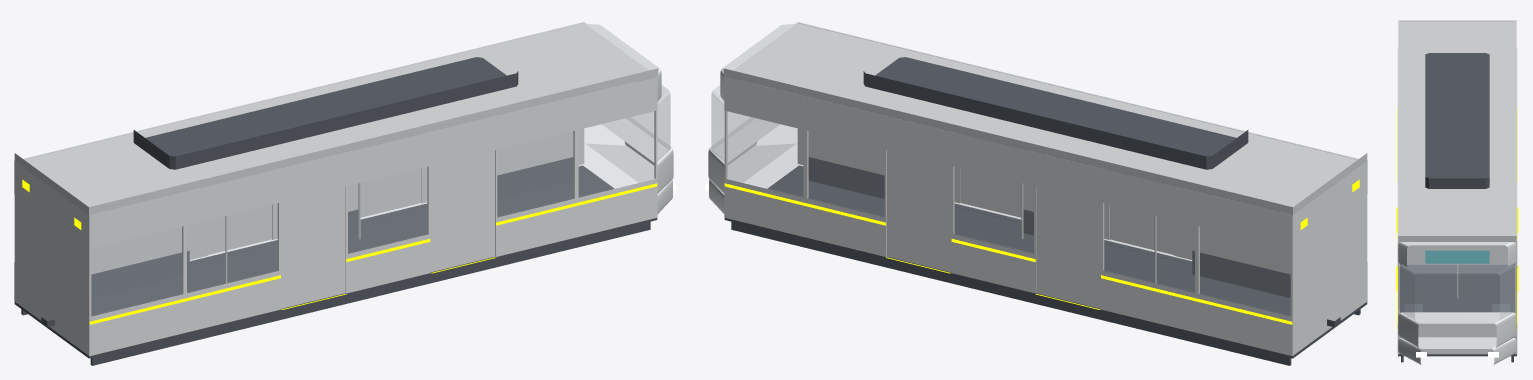
The model's file is ext_maglev_car_body_02.glb.
3 renders of one model, left to right at view 1: azimuth 30°, elevation 25°; view 2: azimuth 150°, elevation 25°; view 3: azimuth 270°, elevation 25°, orthographic. The views are drawn at different scales.
Parts seen in each view (by area): view 1: Roof, Side_Glass, Lower_Wall, Wall, Roof_Pods, Underframe, End_Wall, Door_L_02, Door_L_01, Skirts, Seats, Cab_Nose (+4 smaller); view 2: Roof, Side_Glass, Lower_Wall, Wall, Roof_Pods, Underframe, End_Wall, Door_R_02, Door_R_01, Skirts, Seats, Cab_Nose (+4 smaller); view 3: Roof, Roof_Pods, Cab_Nose, Cab_Glass, Underframe, Wall, Destination_Screen, Livery_Stripe, Seats, Door_Sills, Lower_Wall, Headlights (+1 smaller).
Boxes of the visible parts, box(x1,y1,x2,y2) form: Roof: box(14, 22, 658, 215); Side_Glass: box(91, 111, 654, 315); Lower_Wall: box(14, 128, 657, 356); Wall: box(14, 23, 657, 316); Roof_Pods: box(133, 57, 518, 169); Underframe: box(14, 165, 657, 358); End_Wall: box(16, 162, 87, 354); Door_L_02: box(430, 150, 494, 272); Door_L_01: box(281, 186, 345, 308); Skirts: box(21, 169, 650, 365); Seats: box(91, 157, 573, 297); Cab_Nose: box(585, 23, 673, 213); Roof: box(723, 22, 1367, 215); Side_Glass: box(727, 111, 1290, 315); Lower_Wall: box(724, 128, 1367, 356); Wall: box(724, 23, 1367, 316); Roof_Pods: box(863, 57, 1248, 169); Underframe: box(724, 165, 1367, 358); End_Wall: box(1294, 162, 1365, 354); Door_R_02: box(887, 150, 951, 272); Door_R_01: box(1036, 186, 1100, 308); Skirts: box(731, 169, 1360, 365); Seats: box(808, 157, 1290, 297); Cab_Nose: box(708, 23, 796, 213); Roof: box(1398, 20, 1516, 242); Roof_Pods: box(1425, 53, 1489, 188); Cab_Nose: box(1398, 242, 1516, 364); Cab_Glass: box(1399, 264, 1515, 319); Underframe: box(1398, 264, 1516, 356); Wall: box(1397, 47, 1517, 322); Destination_Screen: box(1425, 250, 1489, 263); Livery_Stripe: box(1397, 108, 1517, 328); Seats: box(1404, 304, 1510, 312); Door_Sills: box(1396, 207, 1518, 290); Lower_Wall: box(1397, 323, 1517, 354); Headlights: box(1416, 352, 1498, 357).
Size of the model in its own units: 12.16 by 3.34 by 2.66.
